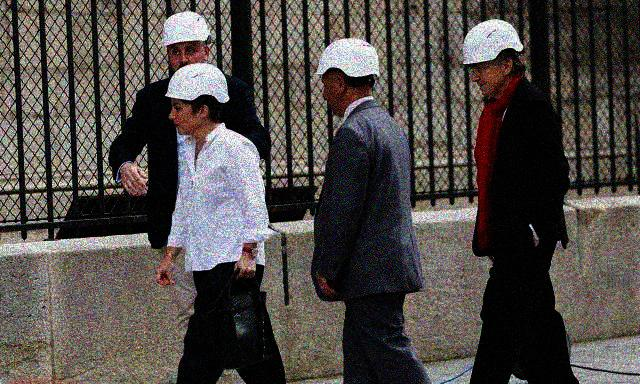helmet: (314, 36, 384, 116), (461, 18, 527, 99), (165, 64, 231, 138), (159, 11, 211, 66)
